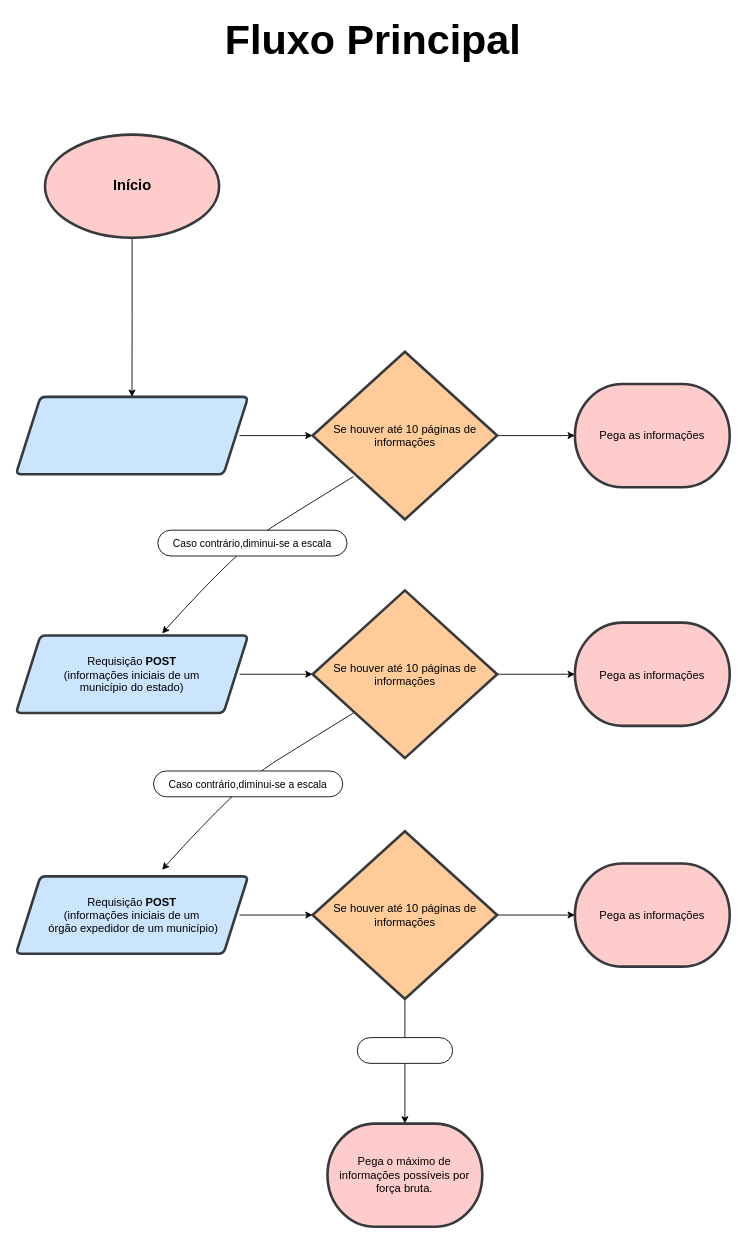
This 746x1243 diagram has some shape labels left out. The shapes that lost their labels are listed below. From the top down, each one's centre as x and y in pixels, then its label:
pixel 131 435: Requisição POST (informações iniciais de um estado)
pixel 404 1050: Caso contrário
